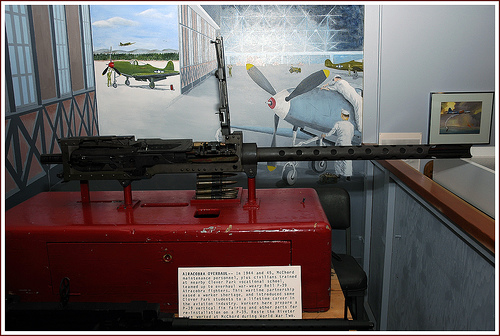rifle: (44, 128, 472, 186)
